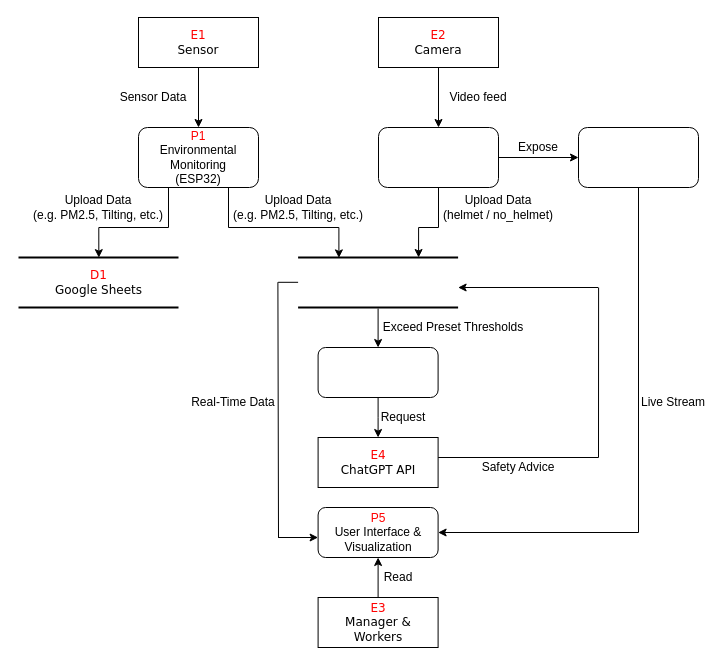
Some shapes in this 725 by 665 pixel diagram are drawn without their labels. The shapes that lost their labels are listed below. From the top down, each one's box as (x1, y1, x2, y2) in pixels, then its label:
(378, 126, 498, 188): P2 AI-based Helmet Detection (Jetson Orin Nano)
(578, 126, 698, 188): P3 Flask & Cloudflare Stream (Jetson Orin Nano)
(297, 256, 459, 308): D2 Firebase Real-Time DB
(317, 346, 438, 398): P4 Cloud Functions & Alert Handling
